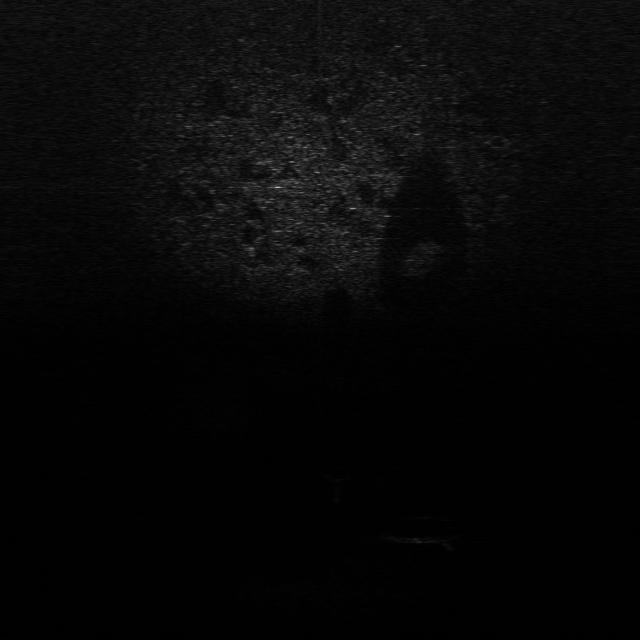ball: (322, 463, 354, 483)
tyre: (379, 508, 467, 547)
